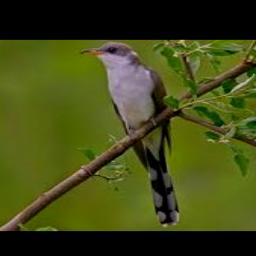Cuckoo: (80, 42, 182, 227)
